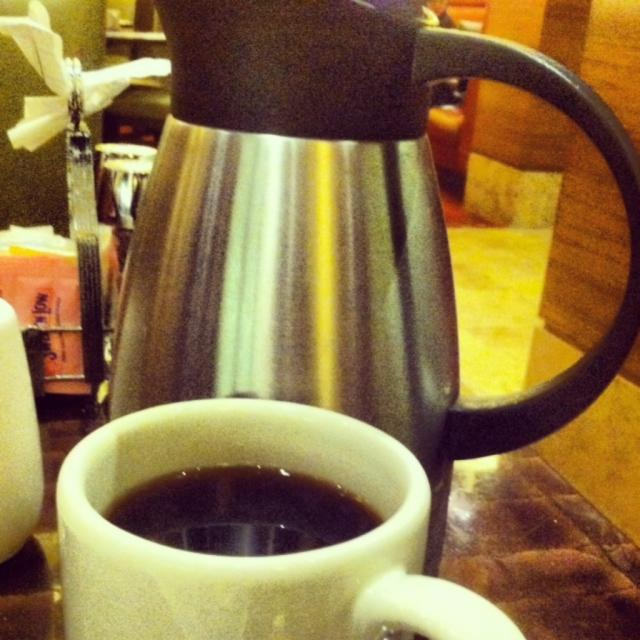Coffee: (63, 394, 437, 633)
Tea: (98, 464, 383, 555)
